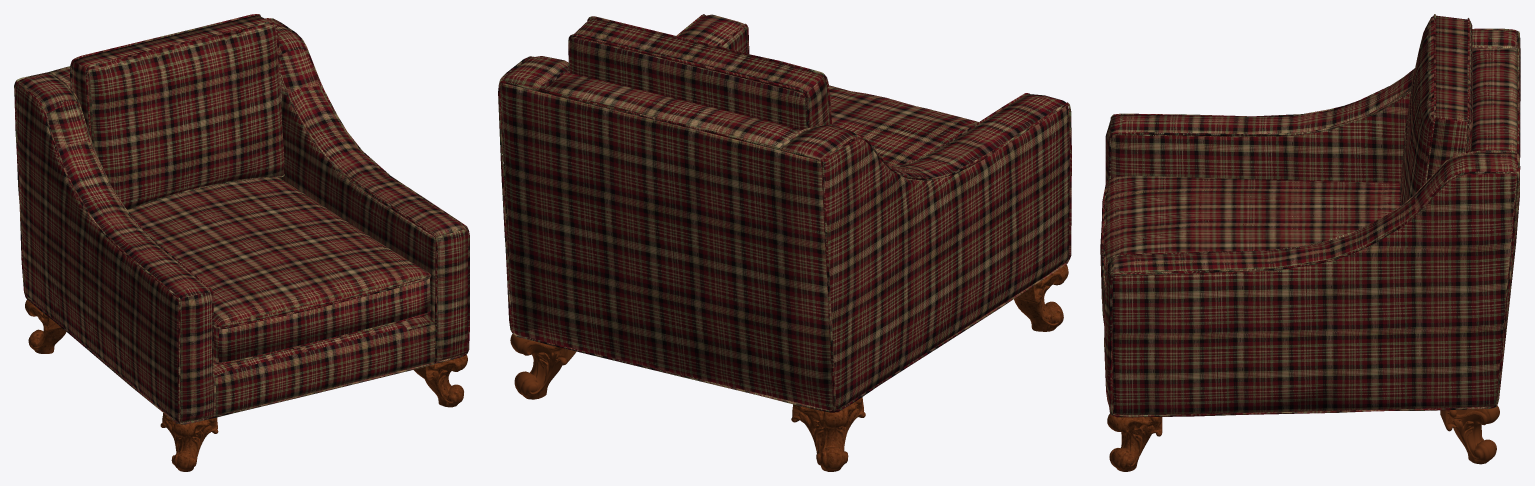
The model's file is arm_chair.glb.
The picture shows the model from 3 angles, left to right: view 1: azimuth 30°, elevation 25°; view 2: azimuth 150°, elevation 25°; view 3: azimuth 270°, elevation 25°; orthographic projection. The views are drawn at different scales.
Parts seen in each view (by area): view 1: Object_4, Object_8; view 2: Object_4, Object_8; view 3: Object_4, Object_8.
Part boxes in pixels (box(x1,y1,x2,y2)): Object_4: box(14, 14, 469, 424); Object_8: box(25, 299, 467, 471); Object_4: box(498, 14, 1071, 412); Object_8: box(510, 264, 1068, 471); Object_4: box(1100, 14, 1520, 417); Object_8: box(1107, 406, 1499, 471).
Size of the model in its own units: 3.57 by 3.41 by 3.92.
2 materials, 2 textured.
